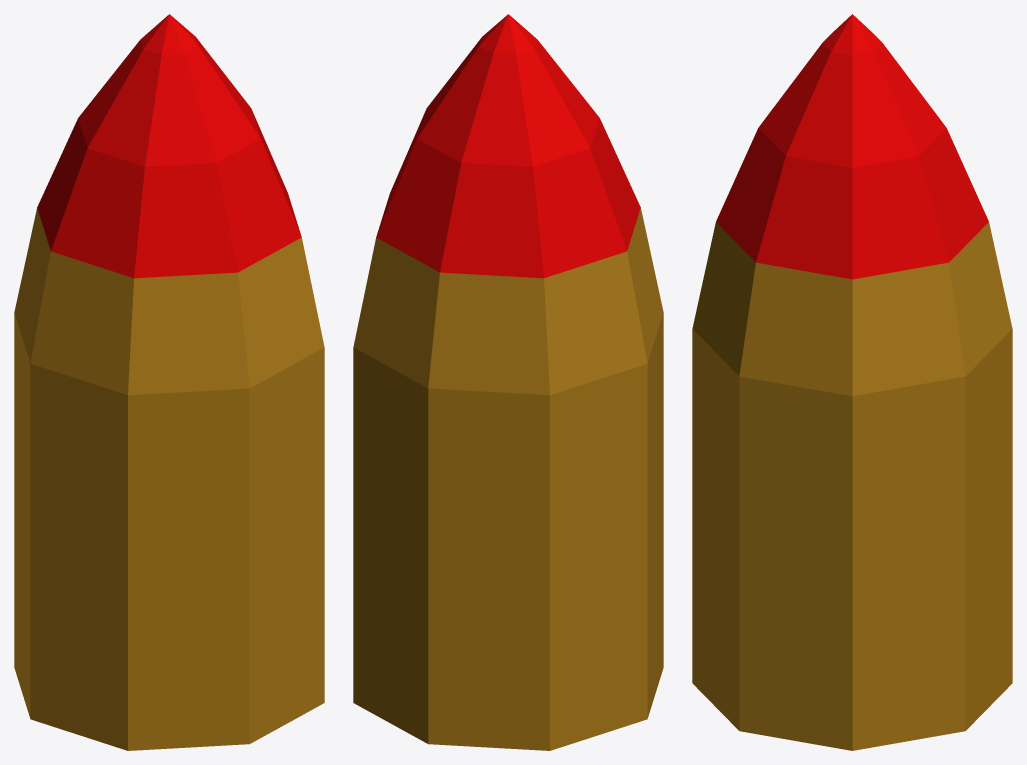
The model's file is Panzer Bullet.fbx.
The picture shows the model from 3 angles, left to right: view 1: azimuth 30°, elevation 25°; view 2: azimuth 150°, elevation 25°; view 3: azimuth 270°, elevation 25°; orthographic projection.
Visible parts, largest first — view 1: pCylinder1; view 2: pCylinder1; view 3: pCylinder1.
Boxes of the visible parts, x1,y1,x2,y2 form: pCylinder1: (14, 14, 324, 750); pCylinder1: (353, 14, 663, 750); pCylinder1: (692, 14, 1012, 750).
Bounding box in the file's own units: 2 × 4.61 × 2.
